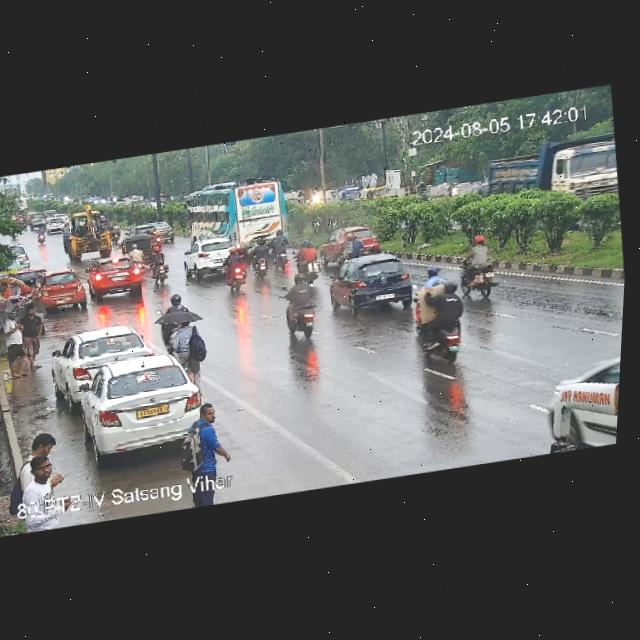bus: (179, 172, 295, 255), (532, 347, 621, 453)
car: (71, 347, 210, 458), (50, 320, 156, 395), (319, 246, 421, 320), (406, 261, 474, 365), (86, 252, 147, 302), (177, 236, 238, 278), (34, 267, 89, 313), (4, 242, 35, 269), (120, 230, 152, 254), (149, 217, 176, 244), (22, 207, 49, 231), (44, 213, 70, 233), (48, 216, 65, 232)
motorcycle: (447, 234, 506, 303), (274, 267, 328, 341), (328, 230, 373, 264), (244, 234, 274, 281), (143, 242, 171, 288), (222, 246, 246, 294), (160, 294, 186, 329), (269, 227, 290, 268), (33, 222, 49, 245), (128, 242, 143, 264)
person: (174, 396, 237, 481), (168, 317, 208, 385), (21, 449, 63, 503), (0, 309, 30, 380), (20, 304, 50, 373), (23, 429, 59, 462), (10, 279, 24, 299), (0, 281, 11, 299)
truck: (480, 134, 616, 205), (59, 196, 117, 264)
